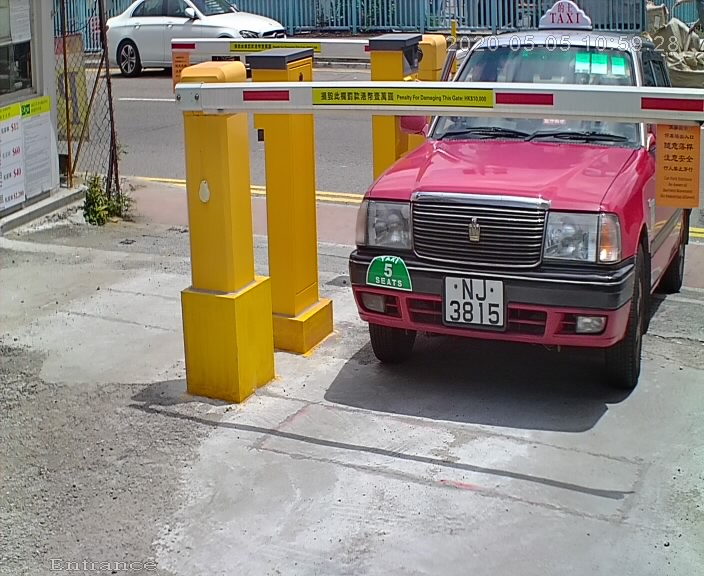taxi: (340, 2, 676, 407)
taxi_mark: (360, 251, 424, 308)
